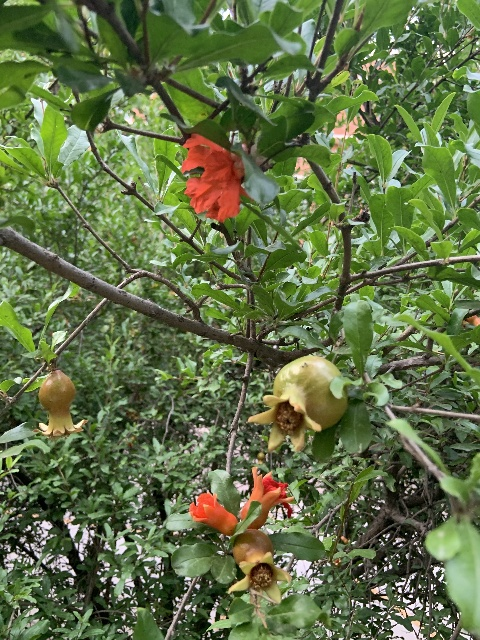early-fruit: (228, 528, 292, 602), (31, 368, 88, 439)
flower: (180, 133, 250, 222), (240, 466, 294, 529), (189, 492, 237, 535)
mid-growth: (246, 355, 348, 454)
